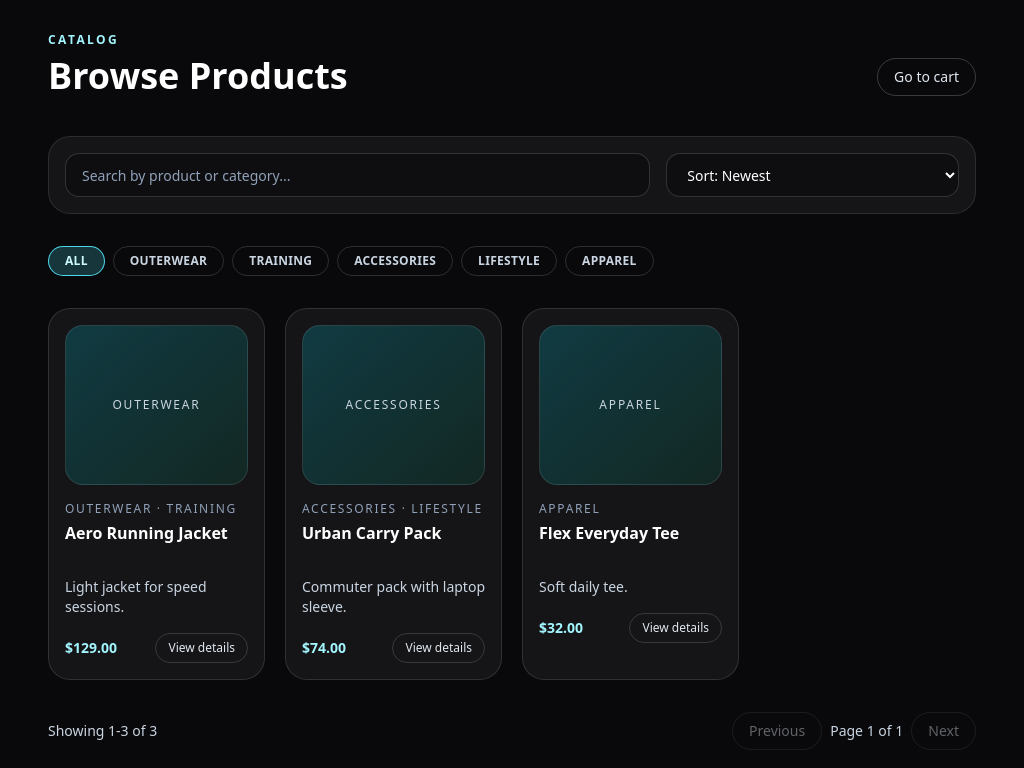
CatalogClient › searches by category text
This screenshot has width=1024, height=768.
Expected: the link "Aero Running Jacket" is shown, left=65, top=522, right=228, bottom=544
Type "training" into the field with placeholder "Search by product or category..." at (358, 175), box left=65, top=153, right=650, bottom=197
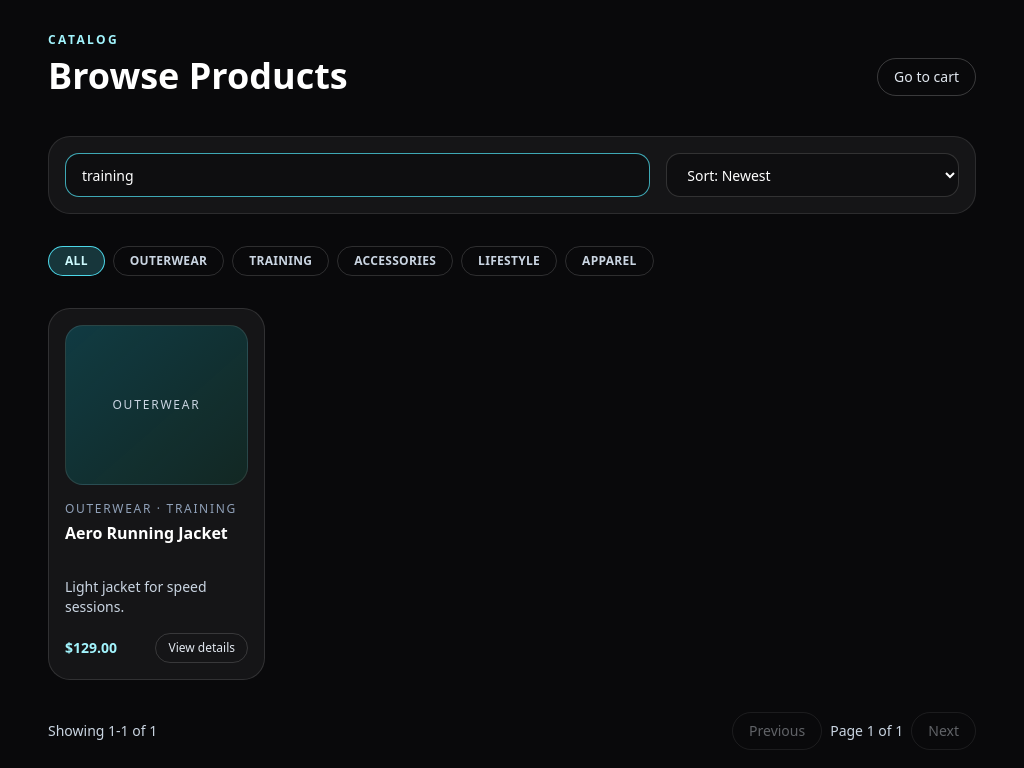
Expected: the link "Aero Running Jacket" is shown, left=65, top=522, right=228, bottom=544
Now the link "Urban Carry Pack" is gone
